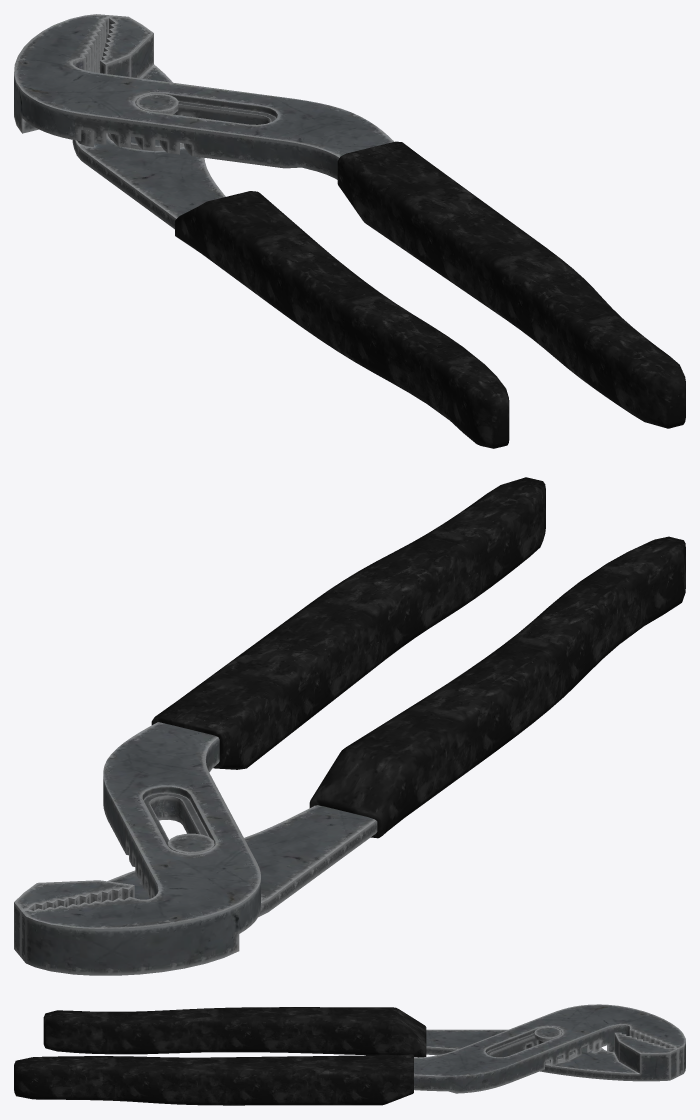
Rendered from tongue_groove_pliers.glb.
3 views of the same model, one above another, from view 1: azimuth 30°, elevation 25°; view 2: azimuth 150°, elevation 25°; view 3: azimuth 270°, elevation 25° (orthographic). The views are drawn at different scales.
Parts seen in each view (by area): view 1: tongue_groove_pliers_l; view 2: tongue_groove_pliers_l; view 3: tongue_groove_pliers_l.
Part boxes in pixels (x1=…): tongue_groove_pliers_l: x1=14, y1=14, x2=685, y2=448; tongue_groove_pliers_l: x1=14, y1=477, x2=685, y2=975; tongue_groove_pliers_l: x1=14, y1=1004, x2=685, y2=1105.
Size of the model in its own units: 0.0625 by 0.0139 by 0.2444.
1 material, 1 textured.
